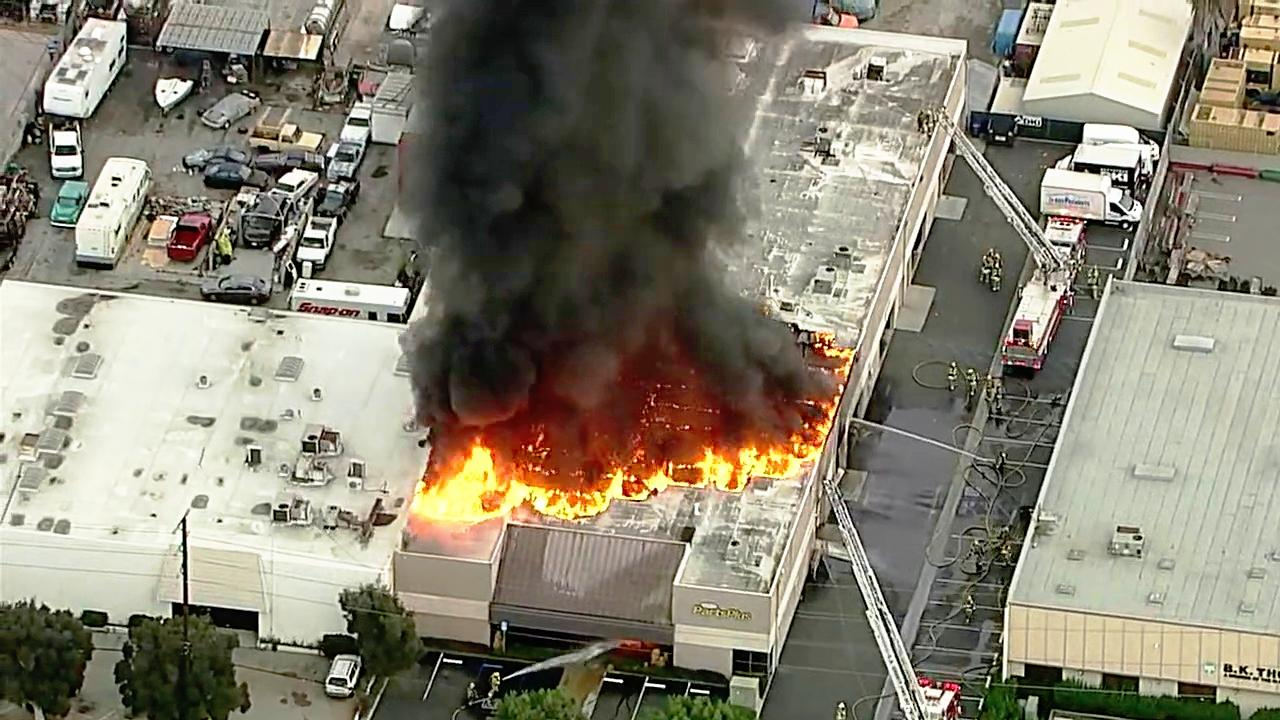fire: (521, 447, 680, 518), (430, 439, 517, 522), (695, 445, 814, 503)
smoke: (443, 0, 697, 313)
